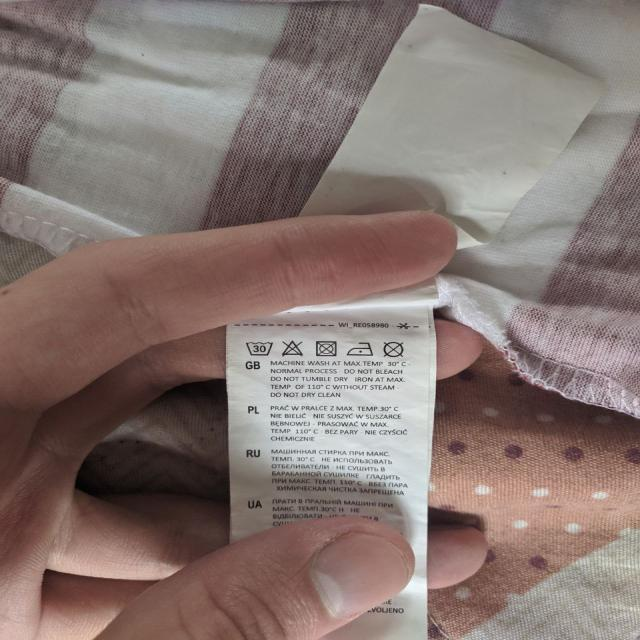30C: (246, 336, 275, 358)
DN_bleach: (279, 338, 307, 358)
DN_dry_clean: (381, 336, 411, 358)
DN_tumble_dry: (316, 338, 339, 357)
iron_low: (348, 338, 376, 358)
